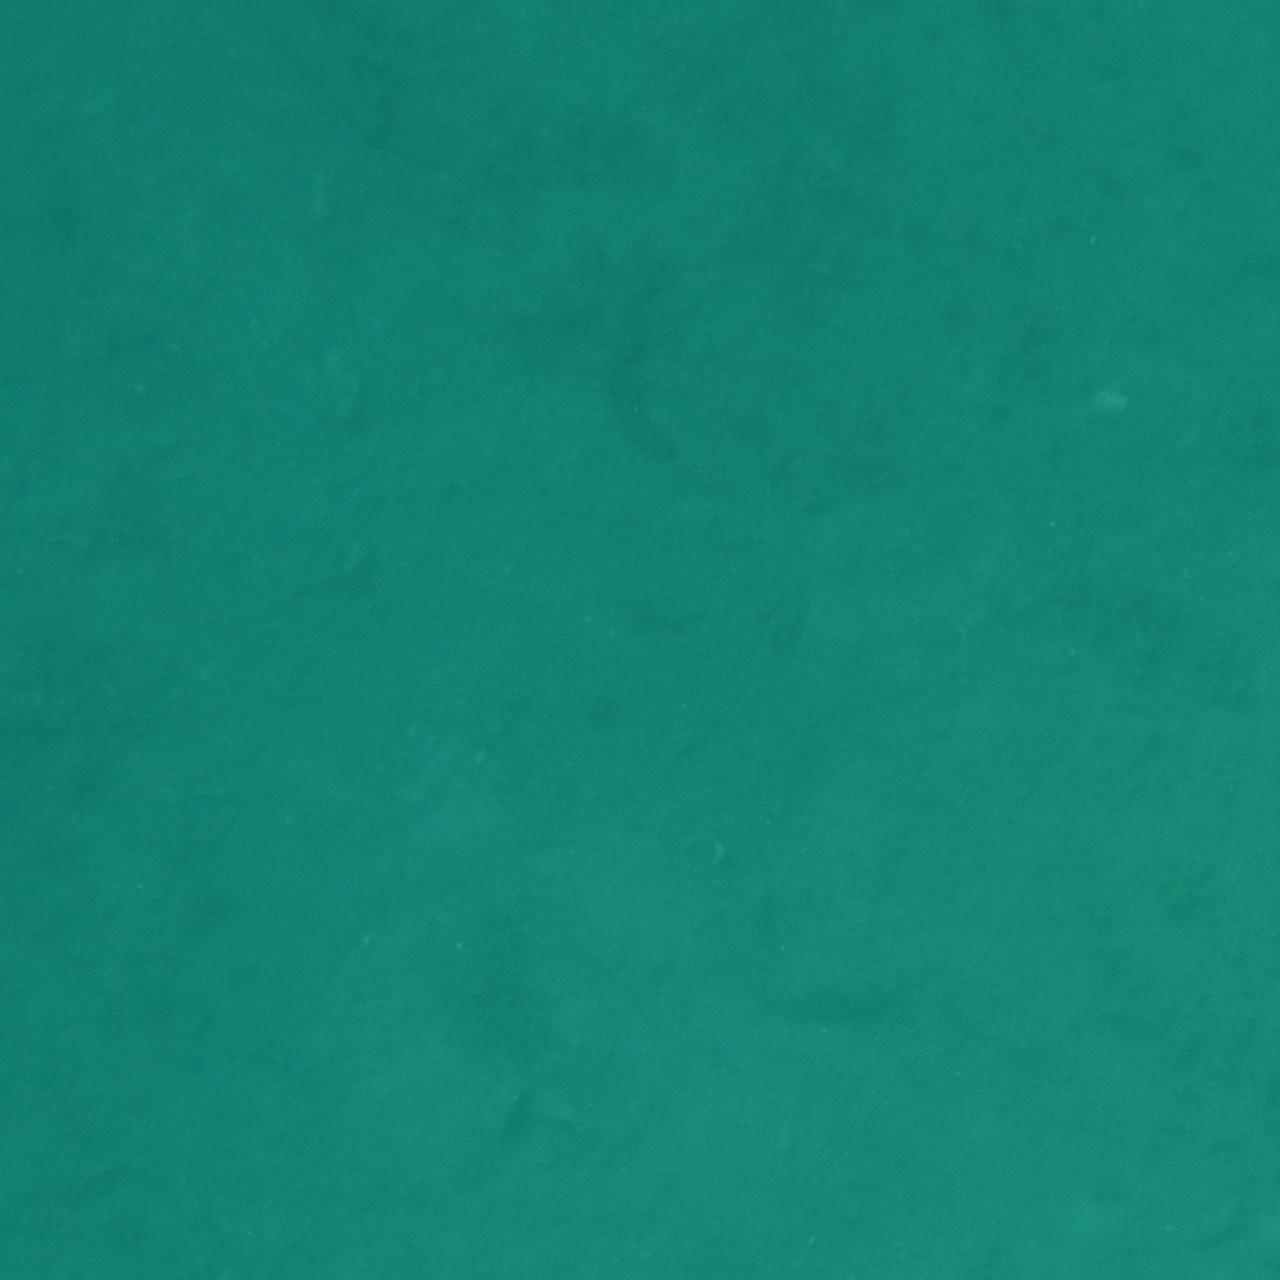Holothuria tubulosa: (572, 234, 714, 476), (1138, 716, 1280, 892), (744, 968, 938, 1049), (0, 520, 70, 719), (1169, 954, 1280, 1057), (1152, 449, 1280, 531), (0, 1153, 82, 1280), (0, 0, 125, 80), (0, 0, 109, 91), (325, 1230, 517, 1280), (0, 1146, 70, 1280), (856, 0, 1054, 47), (0, 0, 54, 86)
